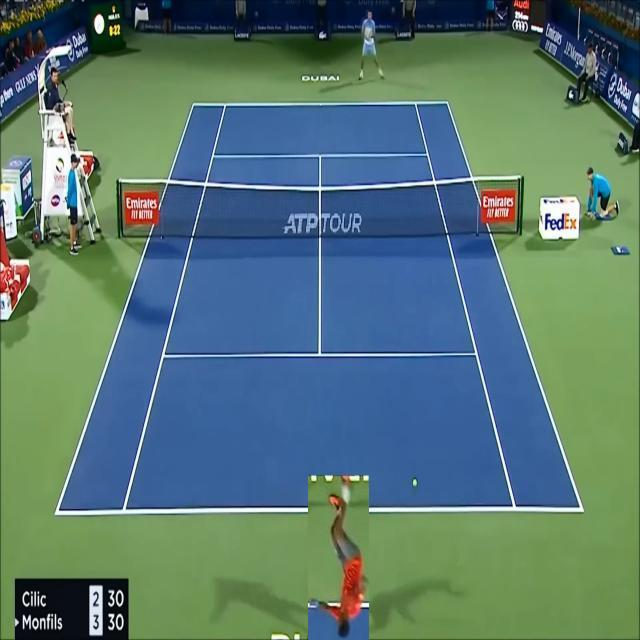court: (54, 101, 585, 516)
net: (116, 170, 525, 242)
player: (308, 475, 369, 640)
